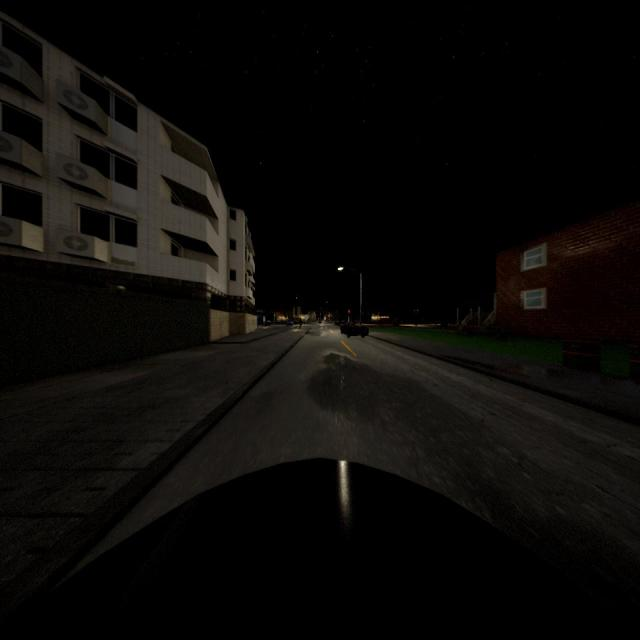Pedestrian: (298, 317, 302, 329)
Vehicle: (1, 456, 640, 640), (340, 320, 369, 338), (334, 317, 345, 326), (318, 320, 321, 324)
traffic_light: (348, 309, 350, 317)
